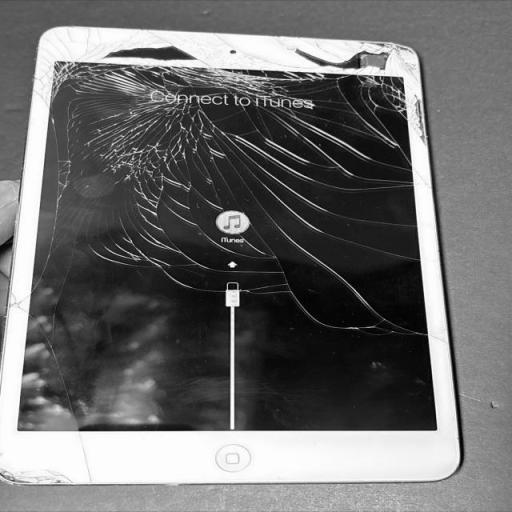phone: (0, 24, 468, 488)
